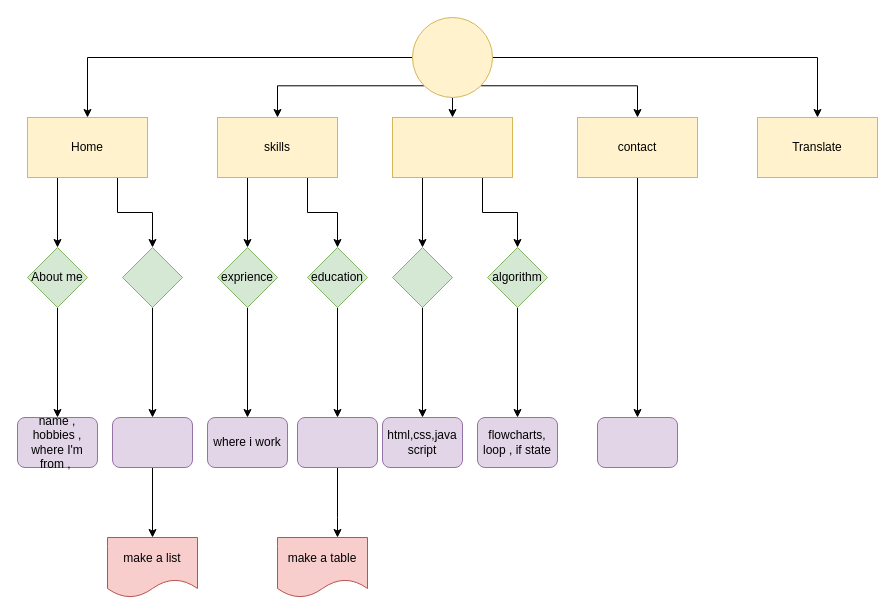
Some shapes in this 895 by 615 pixel diagram are drawn without their labels. The box of each missing label's shape, as (x1, y1, x2, y2) in pixels:
high school college: (296, 416, 378, 468)
html: (392, 246, 452, 308)
objective: (122, 246, 182, 308)
phone , email , linkedin , github: (596, 416, 678, 468)
Projects: (392, 116, 512, 178)
website start: (412, 16, 492, 98)
why I study IT what I wanna do: (112, 416, 192, 468)
